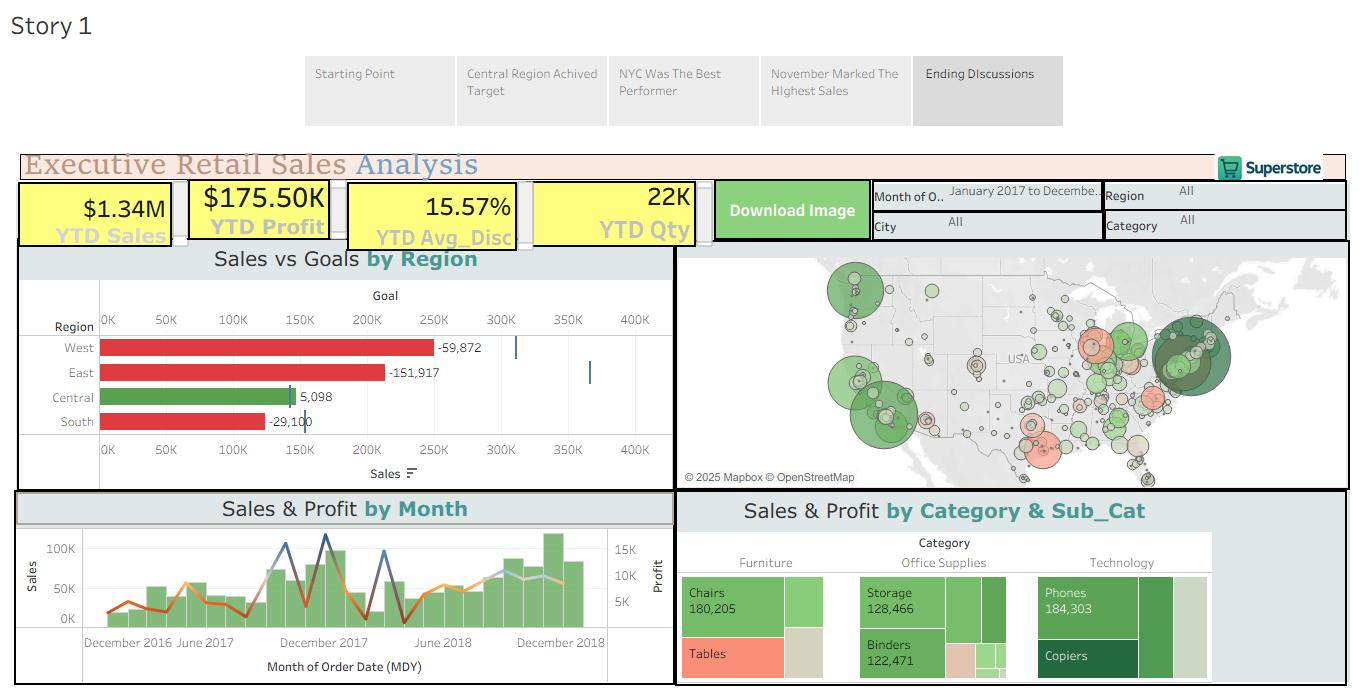

This screenshot's page, from the dashboard's own definition file:
{"tool":"tableau","page":{"name":"Dashboard 1","canvas":[1000,1000],"units":"permille","ordinal":0},"visuals":[{"type":"title","box":[6.9,14.2,986.1,62.1]},{"type":"image","param":"Image/Superstore-image 2.png","box":[897.9,16,92.9,60.5]},{"type":"worksheet","title":"Profit","mark":"Automatic","box":[133.3,40.9,117.8,147.7]},{"type":"worksheet","title":"Sales","mark":"Automatic","box":[6.9,44.5,127.3,147.7]},{"type":"worksheet","title":"Discount","mark":"Automatic","box":[251.1,44.5,139.4,154.8]},{"type":"worksheet","title":"Quantity","mark":"Automatic","box":[383.6,44.5,138.5,147.7]},{"type":"dashboard-object","box":[522.9,67.6,116,112.1]},{"type":"filter","title":"Time_Series","param":"[federated.0n1yw590q4qt2f17w6wlu1ym4l22].[tmn:Order Date (MDY):qk]","box":[639.8,69.4,171.4,58.7]},{"type":"filter","title":"Target_vs_Acheved","param":"[federated.0n1yw590q4qt2f17w6wlu1ym4l22].[none:Region:nk]","box":[811.3,69.4,181,56.9]},{"type":"filter","title":"Tree_Map","param":"[federated.0n1yw590q4qt2f17w6wlu1ym4l22].[none:Category:nk]","box":[812.1,122.8,180.1,58.7]},{"type":"filter","title":"City_Wise","param":"[federated.0n1yw590q4qt2f17w6wlu1ym4l22].[none:City:nk]","box":[639.8,126.3,172.3,55.2]},{"type":"worksheet","title":"Target_vs_Acheved","mark":"Automatic","rows":["Region"],"cols":["Sales","Goal"],"box":[5.2,179.7,489.2,457.3]},{"type":"worksheet","title":"City_Wise","mark":"Automatic","box":[494.4,179.7,499.6,455.5]},{"type":"worksheet","title":"Time_Series","mark":"Automatic","rows":["Sales","Profit"],"cols":["Order Date (MDY)"],"box":[4.3,635.2,490,355.9]},{"type":"worksheet","title":"Tree_Map","mark":"Automatic","cols":["Category"],"box":[494.4,635.2,497.8,357.7]}]}

Visuals, with their boxes on the dashboard's canvas, which has no fixed pixel size, in thousandths of its width and height (x1, y1, x2, y2). These are canvas units, not pixel positions in the 1366x698 screenshot, which may show the page scaled, cropped or inside an application window:
title: Rect(7, 14, 993, 76)
image: Rect(898, 16, 991, 76)
"Profit" worksheet: Rect(133, 41, 251, 189)
"Sales" worksheet: Rect(7, 44, 134, 192)
"Discount" worksheet: Rect(251, 44, 390, 199)
"Quantity" worksheet: Rect(384, 44, 522, 192)
dashboard-object: Rect(523, 68, 639, 180)
"Time_Series" filter: Rect(640, 69, 811, 128)
"Target_vs_Acheved" filter: Rect(811, 69, 992, 126)
"Tree_Map" filter: Rect(812, 123, 992, 182)
"City_Wise" filter: Rect(640, 126, 812, 182)
"Target_vs_Acheved" worksheet: Rect(5, 180, 494, 637)
"City_Wise" worksheet: Rect(494, 180, 994, 635)
"Time_Series" worksheet: Rect(4, 635, 494, 991)
"Tree_Map" worksheet: Rect(494, 635, 992, 993)
